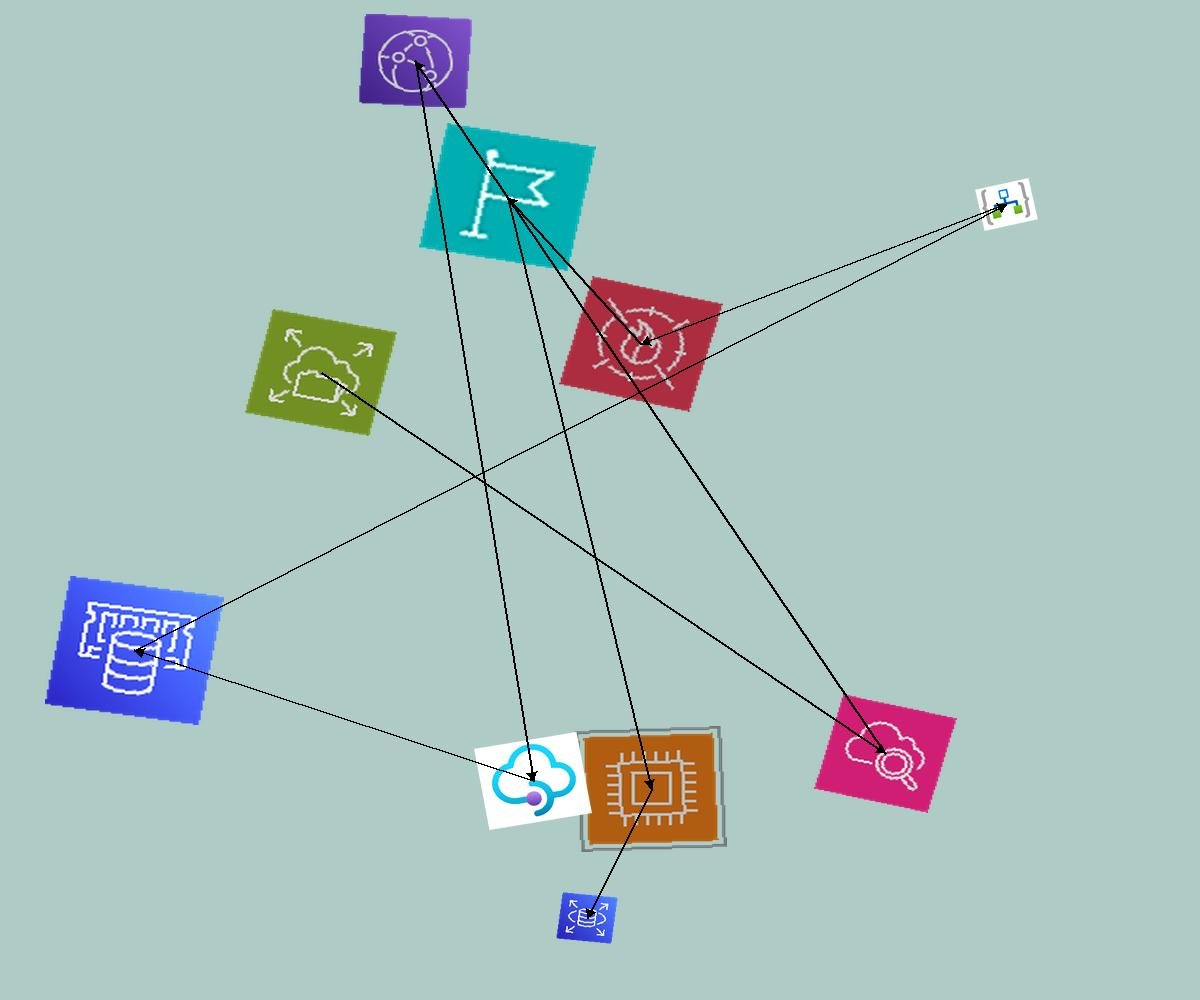AWS-Category_Compute: (575, 726, 727, 852)
AWS-CloudFront: (358, 13, 473, 109)
AWS-CloudWatch: (814, 694, 957, 813)
AWS-EFS: (245, 309, 397, 436)
AWS-ElastiCache: (45, 576, 224, 725)
AWS-RDS: (556, 892, 618, 944)
AWS-Region: (419, 123, 596, 271)
AWS-WAF: (559, 276, 723, 412)
Azure_api_gateway: (474, 732, 592, 830)
Azure_integration-204-Logic-Apps: (975, 178, 1038, 231)
